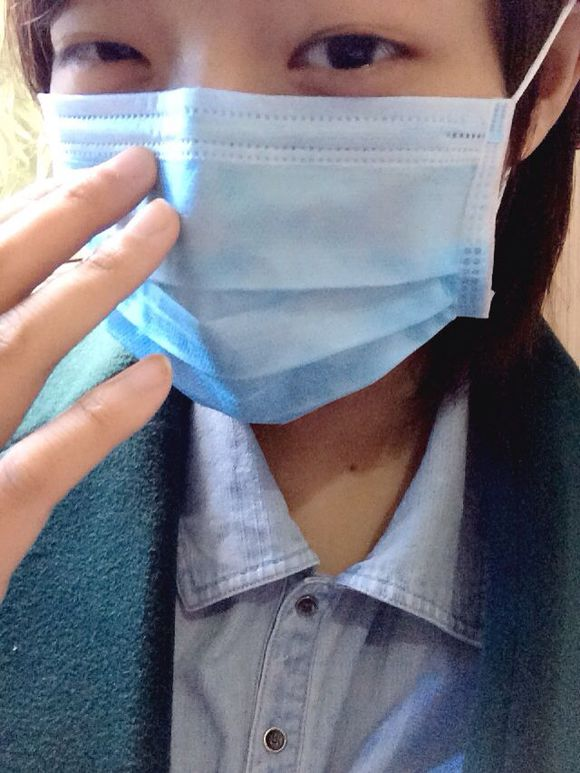face_mask: (26, 1, 506, 421)
